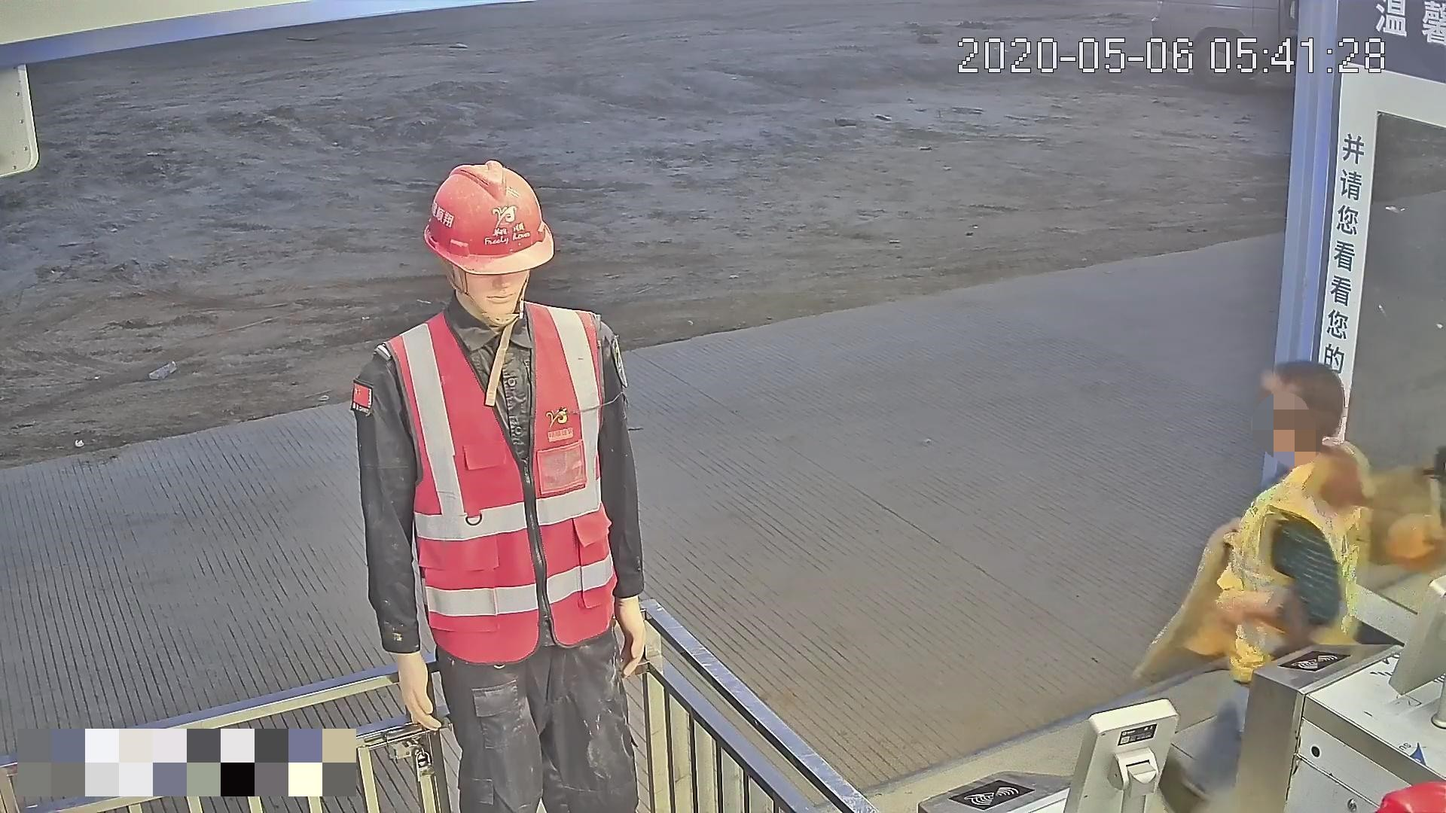hat: (423, 159, 554, 317)
head: (1255, 359, 1347, 461)
person: (343, 155, 649, 812), (1135, 355, 1383, 812)
